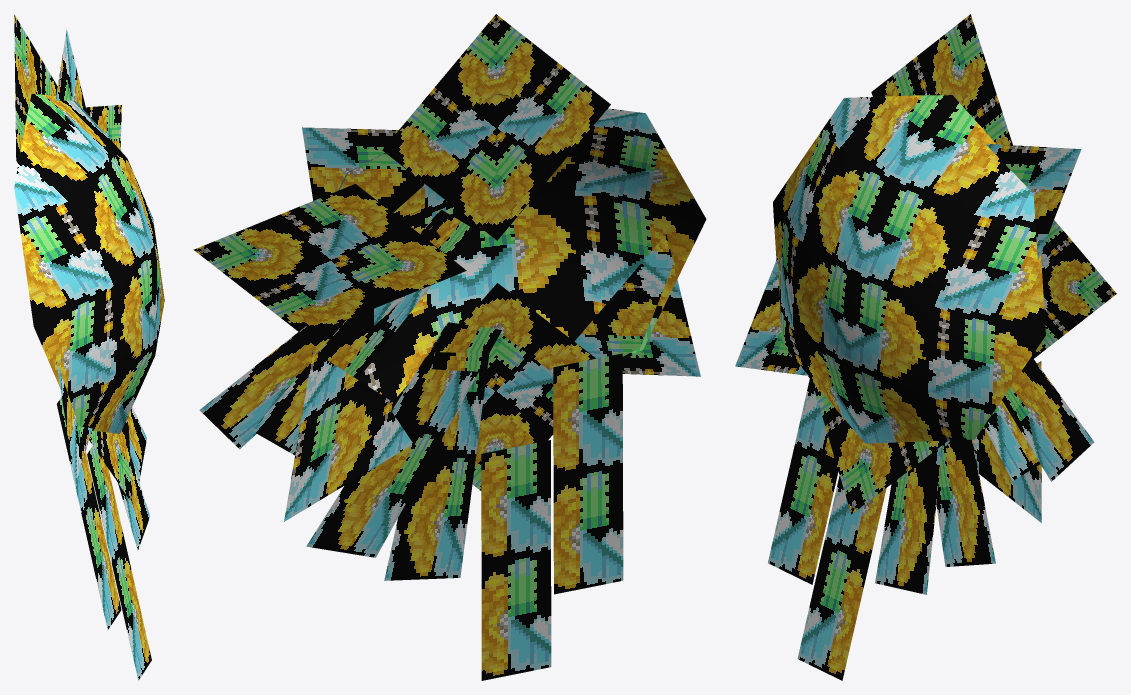
Rendered from code_head59.gltf.
3 views of the same model, side by side, from view 1: azimuth 30°, elevation 25°; view 2: azimuth 150°, elevation 25°; view 3: azimuth 270°, elevation 25° (orthographic). The views are drawn at different scales.
Visible parts, largest first — view 1: code_head59; view 2: code_head59; view 3: code_head59.
Boxes of the visible parts, <box> form: code_head59: <box>14,14,164,680</box>; code_head59: <box>193,14,706,680</box>; code_head59: <box>735,14,1116,680</box>.
Bounding box in the file's own units: 0.3584 × 0.8042 × 0.4419.
Materials: 1 (1 with a texture image).
